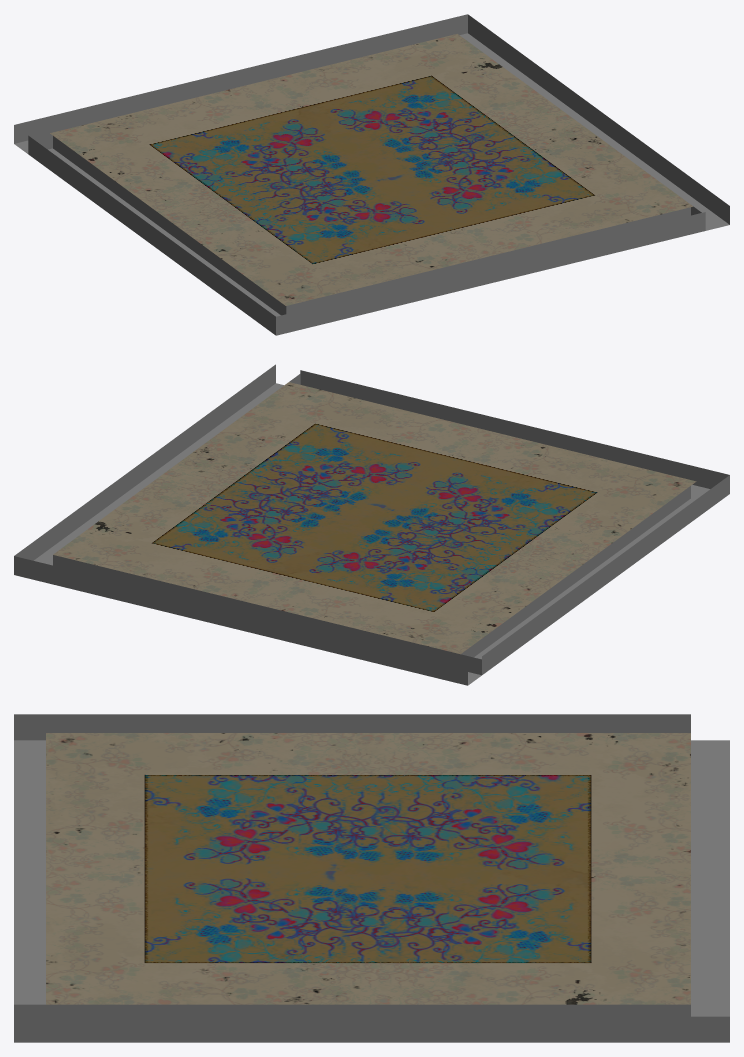
File: Ceiling.fbx
3 renders of one model, top to bottom at view 1: azimuth 30°, elevation 25°; view 2: azimuth 150°, elevation 25°; view 3: azimuth 270°, elevation 25°, orthographic. The views are drawn at different scales.
Visible parts, largest first — view 1: Ceiling; view 2: Ceiling; view 3: Ceiling.
Boxes of the visible parts, <box> form: Ceiling: <box>14,14,729,335</box>; Ceiling: <box>14,364,729,685</box>; Ceiling: <box>14,714,729,1042</box>.
Size of the model in its own units: 501 by 20.02 by 501.
